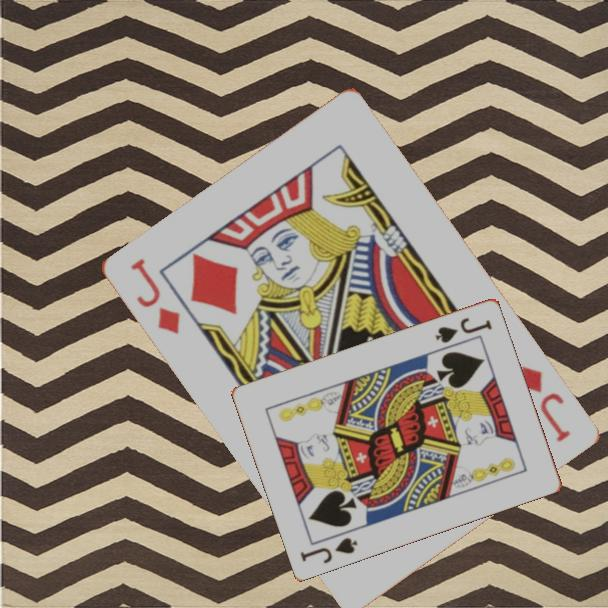d11: (126, 254, 183, 338), (516, 362, 573, 445)
s11: (431, 313, 495, 346), (297, 533, 361, 566)
